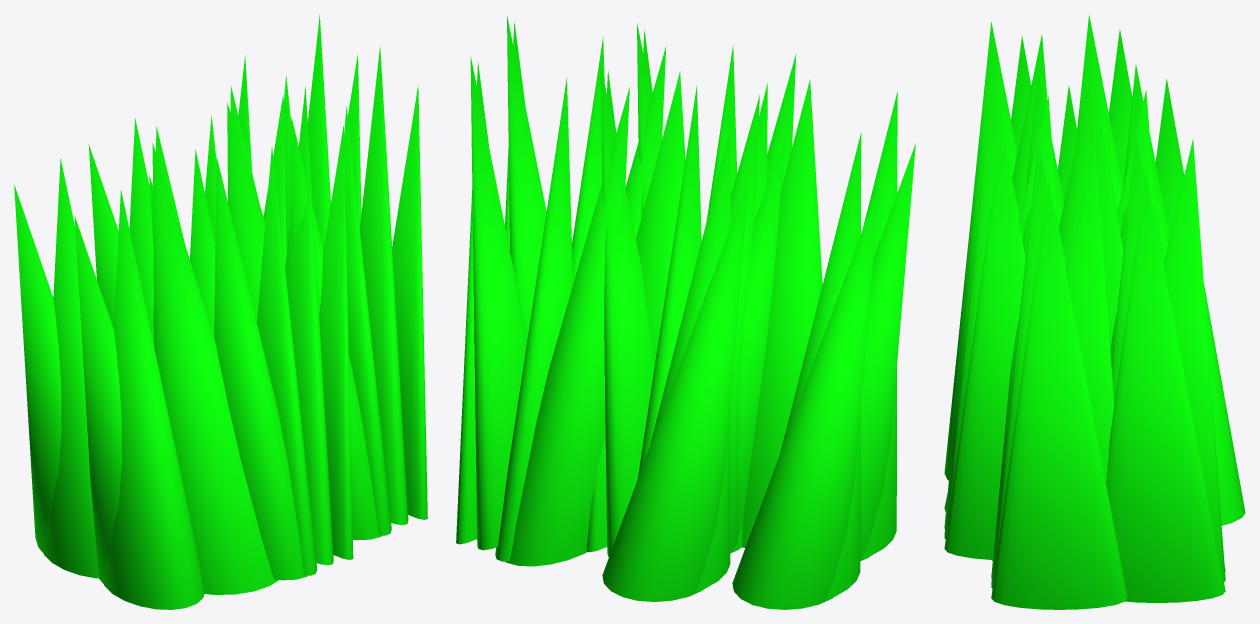
Rendered from graass.fbx.
3 renders of one model, left to right at view 1: azimuth 30°, elevation 25°; view 2: azimuth 150°, elevation 25°; view 3: azimuth 270°, elevation 25°, orthographic. The views are drawn at different scales.
Visible parts, largest first — view 1: group1_pCone15; view 2: group1_pCone15; view 3: group1_pCone15.
Part boxes in pixels (x1,y1,x2,y2): group1_pCone15: [14, 14, 427, 609]; group1_pCone15: [456, 15, 915, 609]; group1_pCone15: [944, 14, 1245, 609].
Size of the model in its own units: 9.34 by 10.82 by 6.31.
